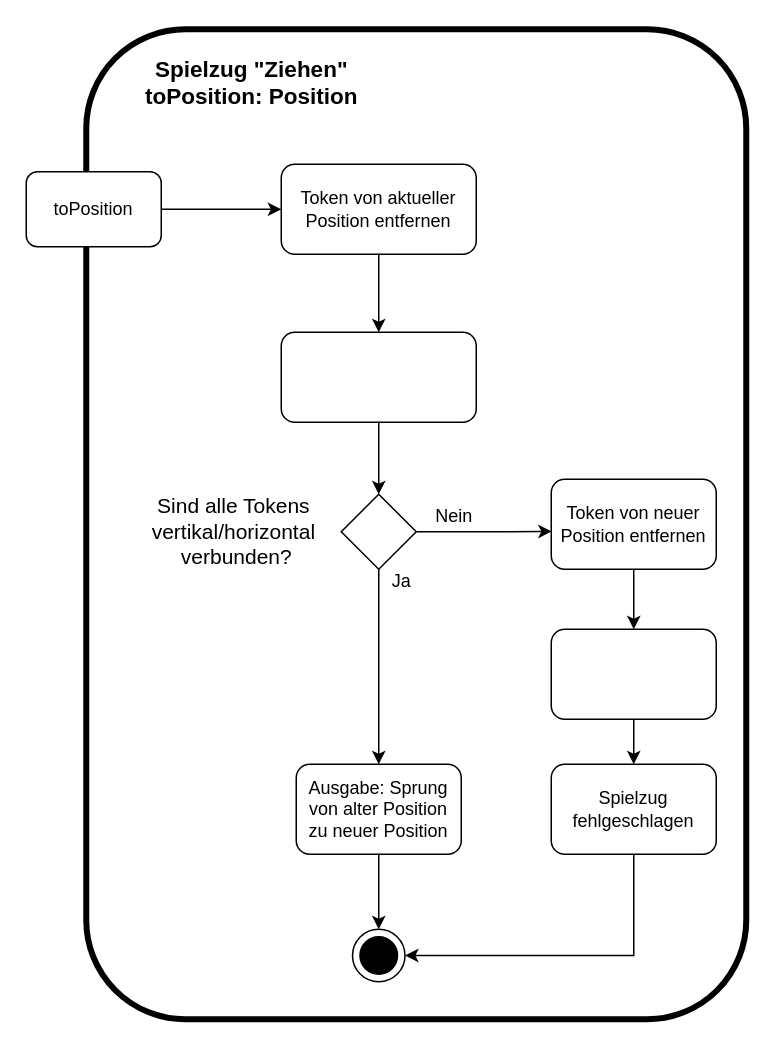
Some shapes in this 776 by 1047 pixel diagram are drawn without their labels. Each missing label, with the centre of its shape:
Token auf alte Position setzen: [633,673]
Token auf neue Position setzen: [378,376]
